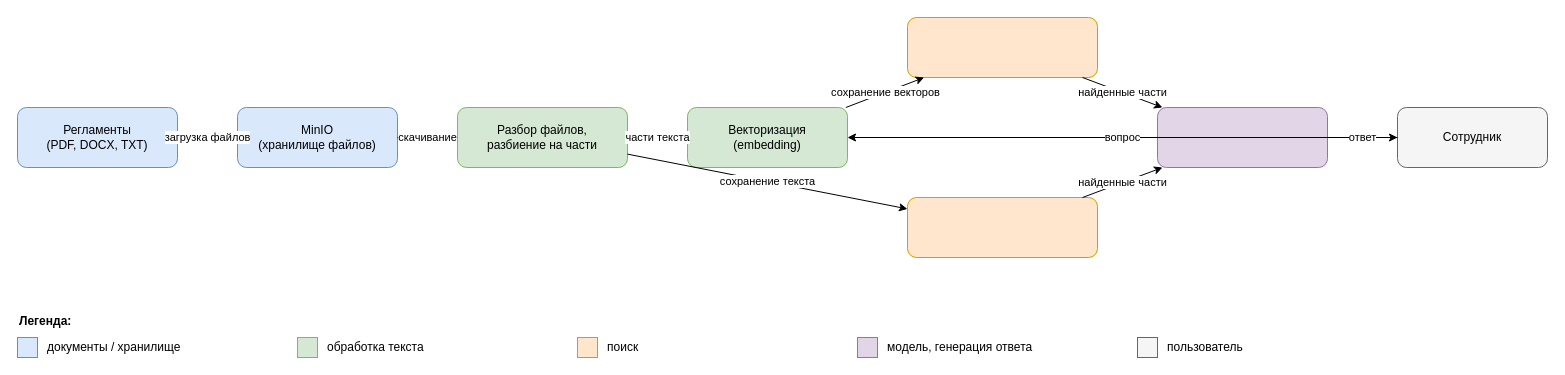
Some shapes in this 1565 by 375 pixel diagram are drawn without their labels. The shapes that lost their labels are listed below. From the top down, each one's centre as x and y in pixels, then its label:
point (1002, 47): Qdrant (поиск по смыслу, HNSW)
point (1242, 137): Ollama (ответ модели)
point (1002, 227): BM25 (поиск по словам)
